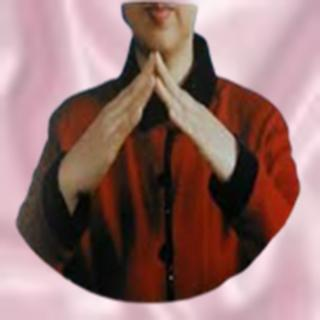HOME: (75, 49, 236, 195)
